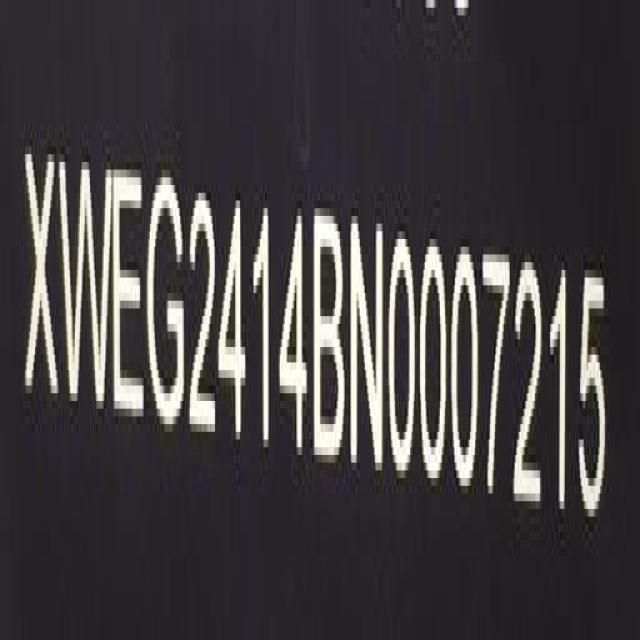0: (452, 241, 481, 495), (391, 223, 418, 481), (420, 238, 447, 490)
1: (253, 190, 274, 459), (553, 260, 572, 529)
2: (190, 186, 220, 452), (516, 254, 544, 523)
4: (280, 200, 311, 464), (218, 194, 248, 457)
5: (581, 259, 612, 528)
7: (484, 242, 512, 504)
B: (314, 211, 346, 470)
E: (113, 160, 146, 430)
G: (147, 166, 186, 441)
N: (352, 218, 384, 479)
W: (60, 145, 112, 426)
X: (24, 136, 60, 417)
